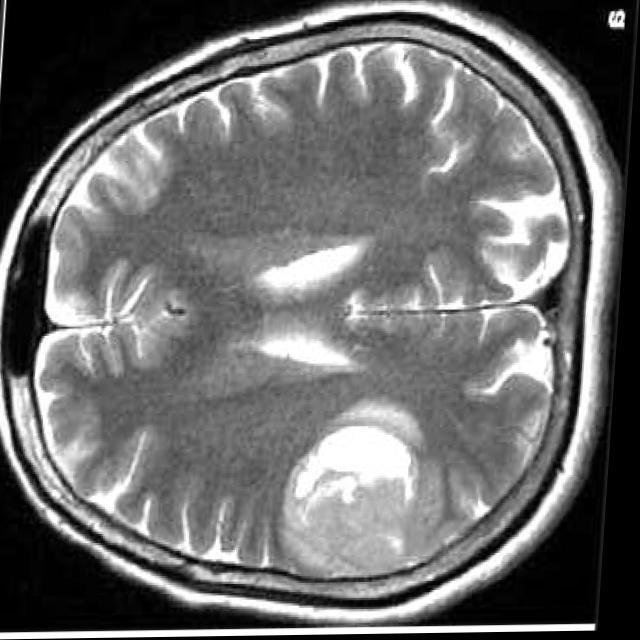Tumor: (292, 425, 423, 581)
